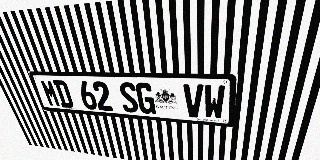2: (91, 81, 113, 111)
6: (76, 81, 98, 110)
D: (52, 80, 74, 108)
G: (135, 82, 156, 114)
M: (39, 80, 62, 107)
S: (118, 82, 139, 113)
V: (183, 84, 203, 118)
W: (204, 84, 226, 120)
